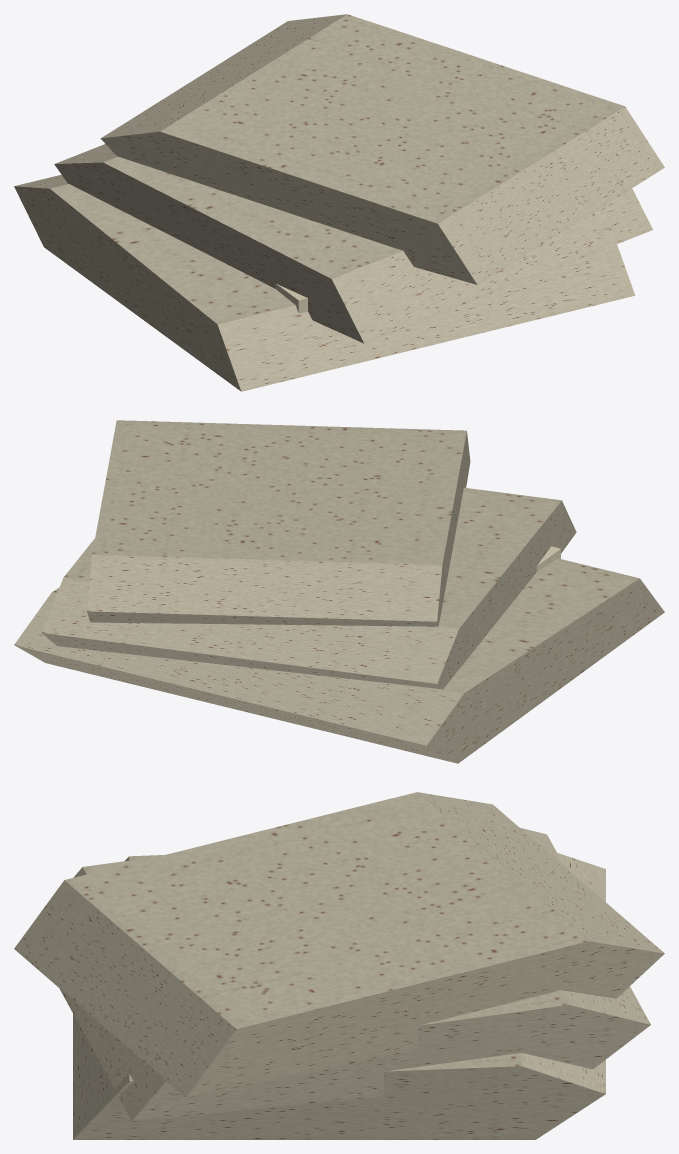
File: CompactPlasticFragments.fbx
3 renders of one model, top to bottom at view 1: azimuth 30°, elevation 25°; view 2: azimuth 150°, elevation 25°; view 3: azimuth 270°, elevation 25°, orthographic. The views are drawn at different scales.
Visible parts, largest first — view 1: CompactPlasticFragments; view 2: CompactPlasticFragments; view 3: CompactPlasticFragments.
Part boxes in pixels (x1,y1,x2,y2): CompactPlasticFragments: (14,14,664,391); CompactPlasticFragments: (14,420,664,763); CompactPlasticFragments: (14,792,664,1139).
Bounding box in the file's own units: 45.51 × 12.6 × 46.43.
Materials: 1 (1 with a texture image).
